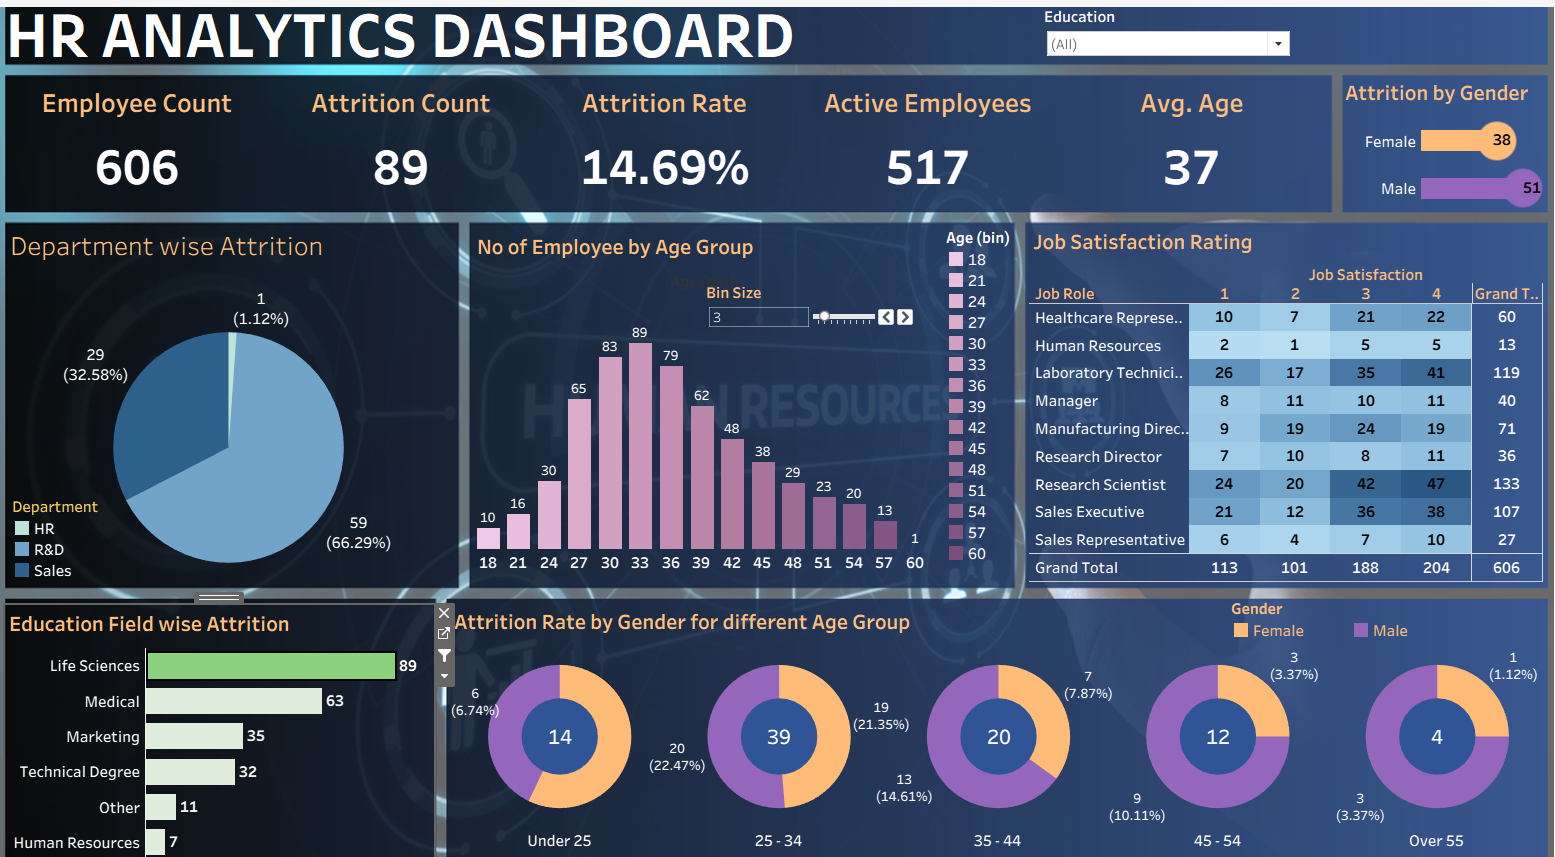

What the dashboard file says about the page in this screenshot:
{"tool":"tableau","page":{"name":"HR ANALYSTICS DASHBOARD","canvas":[1580,900],"ordinal":0},"visuals":[{"type":"image","param":"Image/HR background.png","box":[8,8,1564,884]},{"type":"text","box":[16,24,1415,61]},{"type":"filter","title":"No of Employee by Age Group","param":"[federated.08sd9p20flu60516quu6d1h9izmy].[none:Education:nk]","box":[1058,28,249,74]},{"type":"worksheet","title":"Attrition by Gender","mark":"Automatic","rows":["Gender"],"cols":["Calculation_0339244391002112","Calculation_0339244391002112"],"box":[1355,96,208,138]},{"type":"worksheet","title":"KPI","mark":"Automatic","box":[19,101,1319,131]},{"type":"worksheet","title":"Job Satisfaction Rating","mark":"Square","rows":["Job Role"],"cols":["Job Satisfaction"],"box":[1043,245,515,359]},{"type":"worksheet","title":"Department wise Attrition ","mark":"Pie","box":[20,246,476,456]},{"type":"legend","title":"No of Employee by Age Group","param":"[federated.08sd9p20flu60516quu6d1h9izmy].[none:Age (bin):ok]","box":[960,249,140,355]},{"type":"worksheet","title":"No of Employee by Age Group","mark":"Automatic","rows":["Employee Count"],"cols":["Age (bin)"],"box":[487,250,458,346]},{"type":"parameter","param":"[Parameters].[Parameter 0339244729438211]","box":[720,304,210,56]},{"type":"legend","title":"Department wise Attrition ","param":"[federated.08sd9p20flu60516quu6d1h9izmy].[none:Department:nk]","box":[26,518,140,85]},{"type":"legend","title":"Attrition Rate by Gender for different Age Group","param":"[federated.08sd9p20flu60516quu6d1h9izmy].[none:Gender:nk]","box":[1245,620,330,68]},{"type":"worksheet","title":"Attrition Rate by Gender for different Age Group","mark":"Pie","rows":["Calculation_0339244746629126","Calculation_0339244746629126"],"cols":["CF_age band"],"box":[464,625,1097,249]},{"type":"worksheet","title":"Education Field wise Attrition ","mark":"Automatic","rows":["Education Field"],"cols":["Calculation_0339244391002112"],"box":[19,627,429,255]}]}

Visuals, with their boxes on the page's 1580x900 design canvas (x1, y1, x2, y2). These are canvas units, not pixel positions in the 1555x857 screenshot, which may show the page scaled, cropped or inside an application window:
image: box(8, 8, 1572, 892)
text: box(16, 24, 1431, 85)
"No of Employee by Age Group" filter: box(1058, 28, 1307, 102)
"Attrition by Gender" worksheet: box(1355, 96, 1563, 234)
"KPI" worksheet: box(19, 101, 1338, 232)
"Job Satisfaction Rating" worksheet (Square marks): box(1043, 245, 1558, 604)
"Department wise Attrition " worksheet (Pie marks): box(20, 246, 496, 702)
"No of Employee by Age Group" legend: box(960, 249, 1100, 604)
"No of Employee by Age Group" worksheet: box(487, 250, 945, 596)
parameter: box(720, 304, 930, 360)
"Department wise Attrition " legend: box(26, 518, 166, 603)
"Attrition Rate by Gender for different Age Group" legend: box(1245, 620, 1575, 688)
"Attrition Rate by Gender for different Age Group" worksheet (Pie marks): box(464, 625, 1561, 874)
"Education Field wise Attrition " worksheet: box(19, 627, 448, 882)
